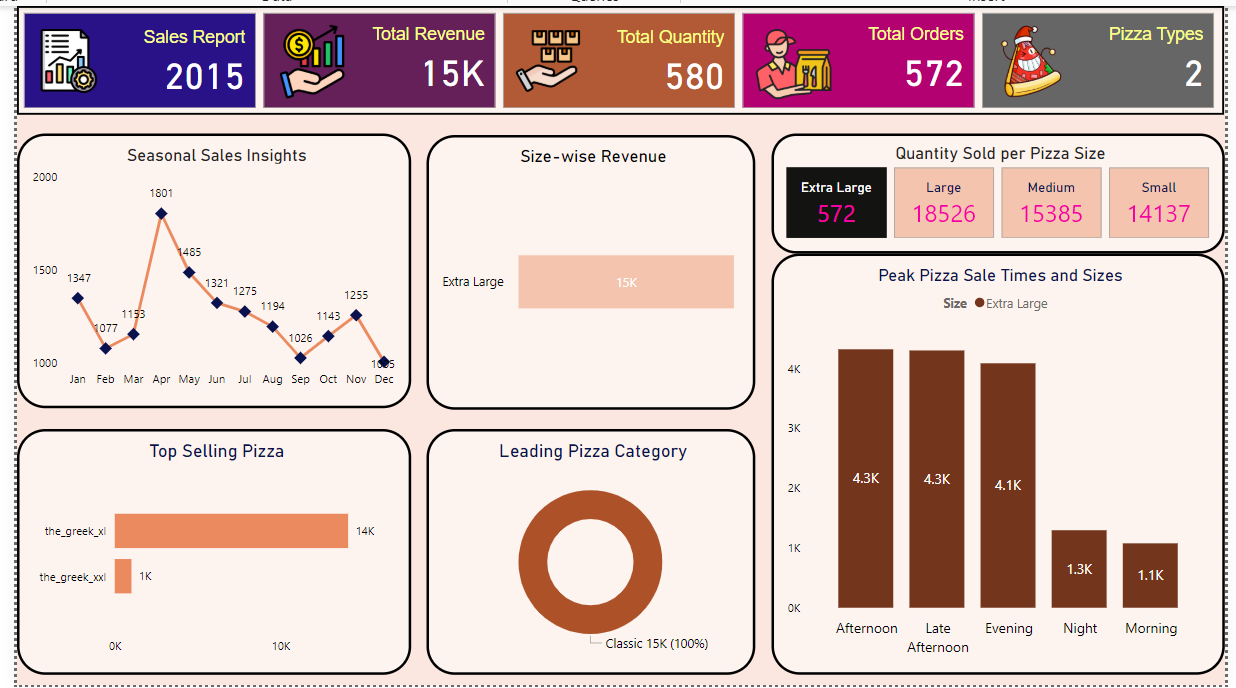

This screenshot's page, from the dashboard's own definition file:
{"tool":"powerbi","page":{"name":"Pizza Dashboard","canvas":[1280,720],"ordinal":0},"visuals":[{"type":"donutChart","title":"Leading Pizza Category","fields":{"Y":["Sum(order_details.Sales cost)"],"Category":["order_details.Category"]},"box":[440.6,448.6,332.4,260.9],"z":0},{"type":"clusteredBarChart","title":"Top Selling Pizza","fields":{"Y":["Sum(order_details.Sales cost)"],"Category":["order_details.pizza_id"]},"box":[12.7,448.6,418.3,260.9],"z":1000},{"type":"columnChart","title":"Peak Pizza Sales Times and Sizes","fields":{"Category":["order_details.TimeCategory"],"Series":["order_details.Size"],"Y":["Sum(order_details.Revenue Collection)"]},"box":[786.2,261,479.8,448.6],"z":2000},{"type":"cardVisual","fields":{"Data":["Measures (2).Sales Report","Measures (2).Total Revenue","Measures (2).Total Quantity","Measures (2).Total Orders","Measures (2).Pizza Types"]},"box":[0,0,1280.1,115.7],"z":3000},{"type":"advancedSlicerVisual","title":"Quantity Sold per Pizza Size","fields":{"Values":["order_details.Size"]},"box":[786.2,128.2,479.8,125],"z":4000},{"type":"lineChart","title":"Seasonal Sales Insights","fields":{"Category":["order_details.Monthno"],"Y":["Sum(order_details.Revenue Collection)"]},"box":[12.7,128.8,418.3,308.6],"z":5000},{"type":"funnel","title":"Size-wise Revenue","fields":{"Y":["Sum(order_details.Revenue Collection)"],"Category":["order_details.Size"]},"box":[440.6,128.8,332.4,308.6],"z":6000}]}

Visuals, with their boxes in screenshot pixels (x1, y1, x2, y2), scaled from the page's 1280x720 canvas onto the 1236x688 screenshot:
"Leading Pizza Category" donutChart: l=425, t=429, r=746, b=678
"Top Selling Pizza" clusteredBarChart: l=12, t=429, r=416, b=678
"Peak Pizza Sales Times and Sizes" columnChart: l=759, t=249, r=1222, b=678
cardVisual - Measures (2).Sales Report x Measures (2).Total Revenue: l=0, t=0, r=1235, b=111
"Quantity Sold per Pizza Size" advancedSlicerVisual: l=759, t=123, r=1222, b=242
"Seasonal Sales Insights" lineChart: l=12, t=123, r=416, b=418
"Size-wise Revenue" funnel: l=425, t=123, r=746, b=418
